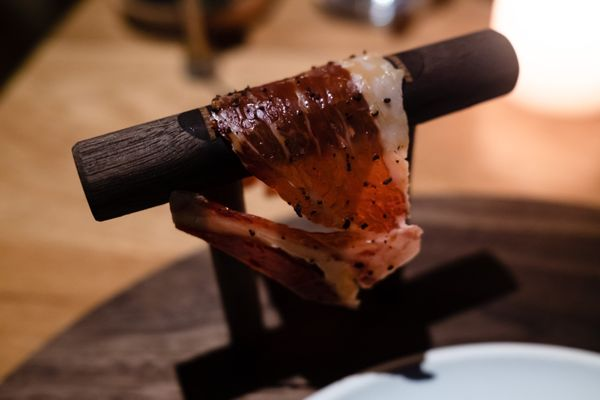sandwich: (292, 249, 517, 392)
